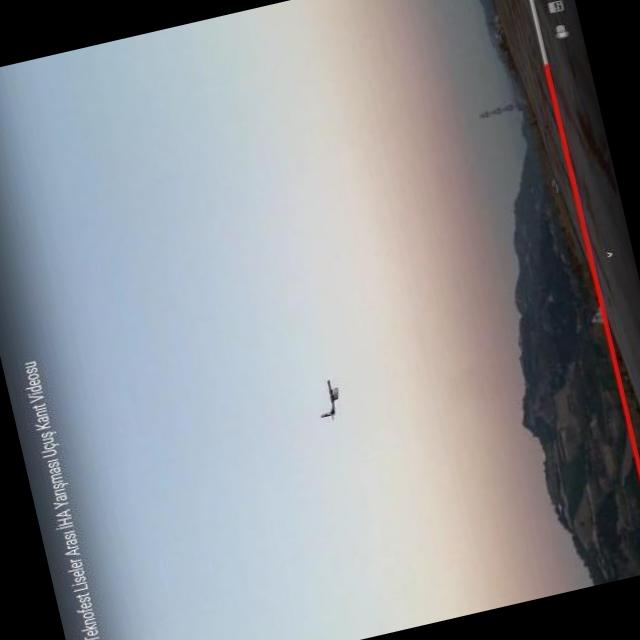UAV: (275, 368, 353, 436)
